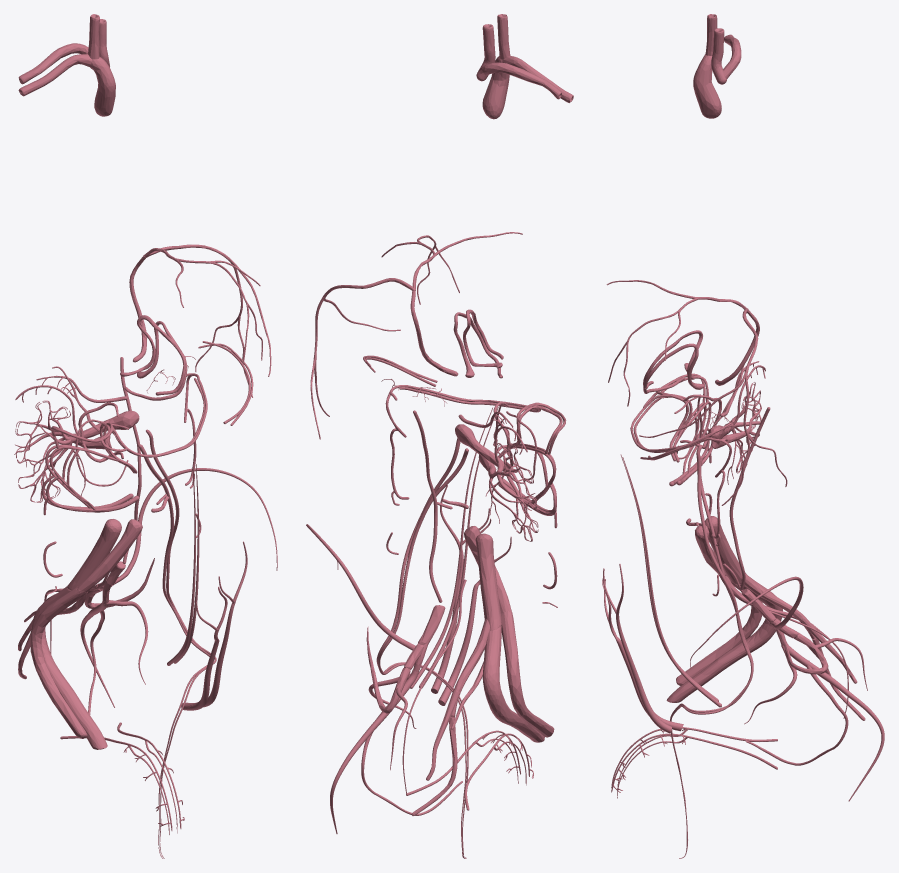
File: cardiovascular-12.glb
3 views of the same model, side by side, from view 1: azimuth 30°, elevation 25°; view 2: azimuth 150°, elevation 25°; view 3: azimuth 270°, elevation 25° (orthographic). The views are drawn at different scales.
Visible parts, largest first — view 1: FJ3567, FJ3568, FJ3565, FJ3566, FJ3533, FJ3532, FJ3590, FJ3583, FJ3542, FJ3510, FJ3529, FJ3530 (+12 smaller); view 2: FJ3568, FJ3567, FJ3566, FJ3532, FJ3533, FJ3530, FJ3583, FJ3514, FJ3529, FJ3579, FJ3513, FJ3578 (+18 smaller); view 3: FJ3568, FJ3533, FJ3583, FJ3567, FJ3529, FJ3513, FJ3566, FJ3542, FJ3514, FJ3511, FJ3532, FJ3589 (+11 smaller).
Part boxes in pixels (box(x1,y1,x2,y2)): FJ3567: box(30, 586, 87, 738); FJ3568: box(31, 586, 107, 749); FJ3565: box(77, 519, 142, 592); FJ3566: box(66, 519, 121, 590); FJ3533: box(146, 429, 216, 858); FJ3532: box(138, 444, 210, 858); FJ3590: box(46, 446, 139, 512); FJ3583: box(90, 57, 115, 116); FJ3542: box(51, 379, 207, 473); FJ3510: box(114, 468, 277, 584); FJ3529: box(203, 541, 247, 707); FJ3530: box(181, 586, 227, 710); FJ3568: box(482, 626, 544, 742); FJ3567: box(501, 610, 554, 737); FJ3566: box(475, 533, 501, 630); FJ3532: box(377, 448, 468, 858); FJ3533: box(376, 438, 466, 857); FJ3530: box(438, 518, 511, 705); FJ3583: box(482, 56, 509, 119); FJ3514: box(410, 232, 522, 376); FJ3529: box(431, 485, 489, 693); FJ3579: box(477, 62, 561, 99); FJ3513: box(330, 669, 418, 833); FJ3578: box(488, 443, 537, 541); FJ3568: box(666, 576, 782, 702); FJ3533: box(670, 446, 753, 858); FJ3583: box(693, 54, 721, 118); FJ3567: box(676, 574, 762, 685); FJ3529: box(603, 564, 671, 733); FJ3513: box(783, 640, 884, 801); FJ3566: box(704, 516, 746, 583); FJ3542: box(630, 373, 706, 461); FJ3514: box(606, 280, 759, 385); FJ3511: box(622, 457, 721, 707); FJ3532: box(670, 456, 753, 858); FJ3589: box(729, 407, 770, 590).
Size of the model in its own units: 0.2141 by 0.6923 by 0.2164.
